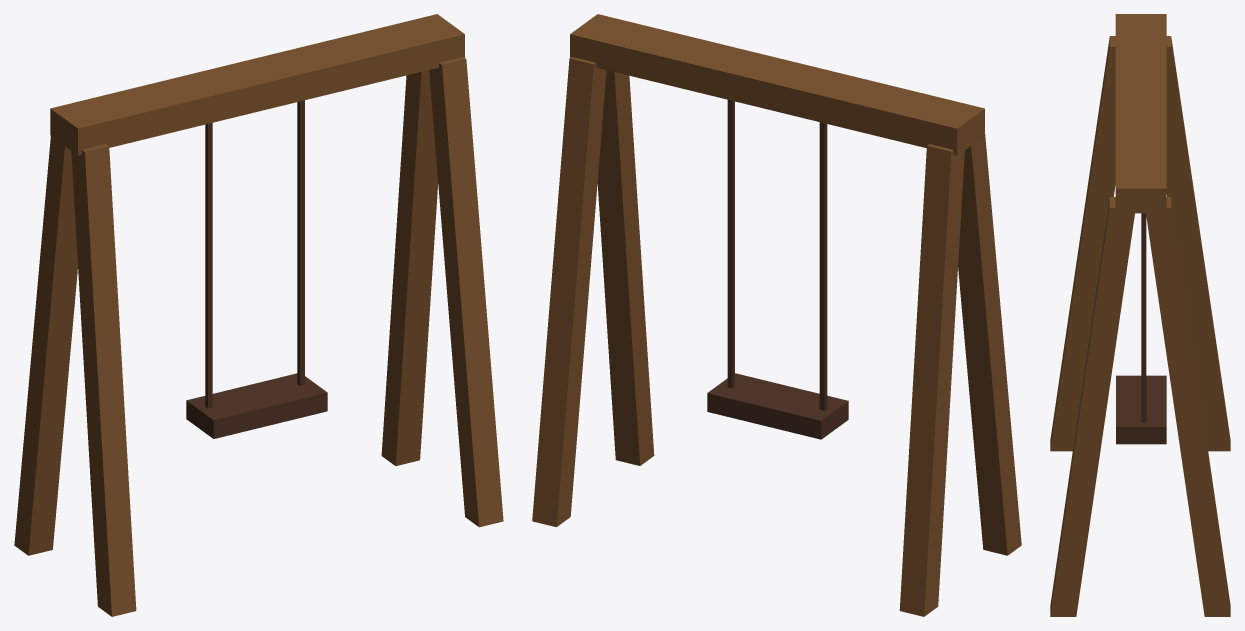
The model's file is swing.fbx.
3 renders of one model, left to right at view 1: azimuth 30°, elevation 25°; view 2: azimuth 150°, elevation 25°; view 3: azimuth 270°, elevation 25°, orthographic. The views are drawn at different scales.
Parts seen in each view (by area): view 1: SWING; view 2: SWING; view 3: SWING.
Boxes of the visible parts, box(x1,y1,x2,y2) form: SWING: box(14, 14, 503, 616); SWING: box(532, 14, 1021, 616); SWING: box(1050, 14, 1230, 616).
Bounding box in the file's own units: 2.95 × 3.33 × 1.28.
